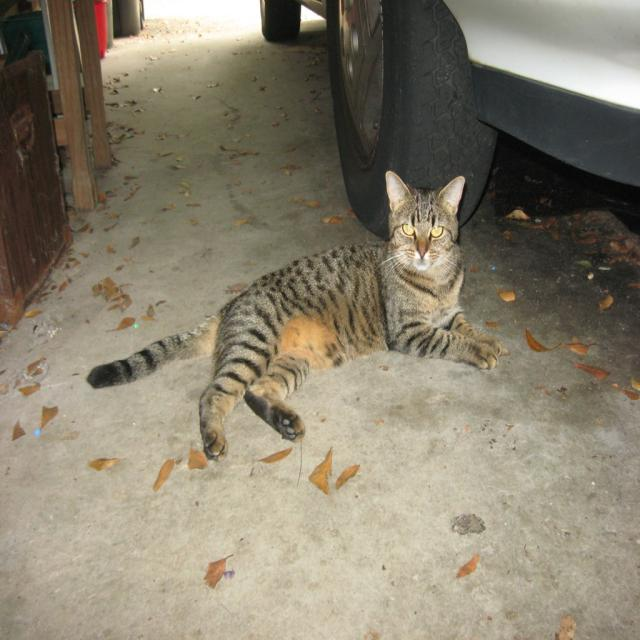Cat: (86, 168, 512, 462)
